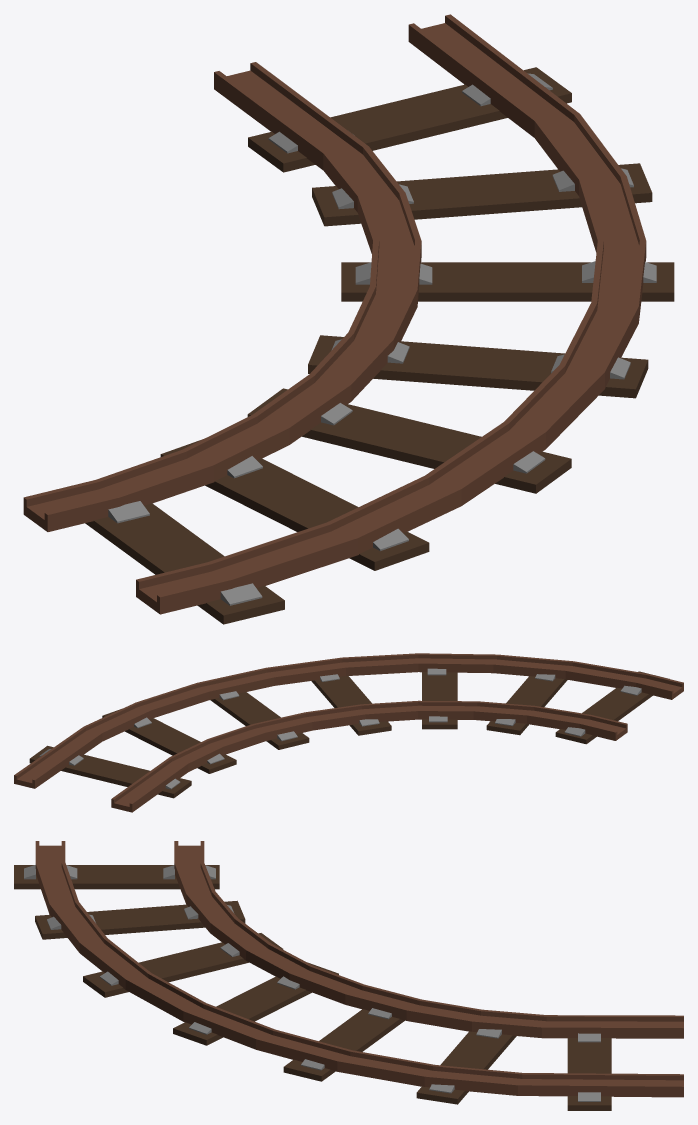
Rendered from Rail mine 1.fbx.
3 renders of one model, top to bottom at view 1: azimuth 30°, elevation 25°; view 2: azimuth 150°, elevation 25°; view 3: azimuth 270°, elevation 25°, orthographic. The views are drawn at different scales.
Visible parts, largest first — view 1: rail gauche 1, planche rail 3.018, planche rail 3.017, planche rail 3.021, planche rail 3.016, planche rail 3.020, planche rail 3.019, planche rail 3.022; view 2: rail gauche 1, planche rail 3.016, planche rail 3.017, planche rail 3.018, planche rail 3.022, planche rail 3.021, planche rail 3.019, planche rail 3.020; view 3: rail gauche 1, planche rail 3.019, planche rail 3.022, planche rail 3.020, planche rail 3.021, planche rail 3.018, planche rail 3.017, planche rail 3.016.
Part boxes in pixels (x1,y1,x2,y2): rail gauche 1: (23,14,646,614); planche rail 3.018: (341,262,674,301); planche rail 3.017: (312,163,652,226); planche rail 3.021: (308,335,648,398); planche rail 3.016: (248,67,571,172); planche rail 3.020: (247,388,571,493); planche rail 3.019: (160,439,429,570); planche rail 3.022: (85,503,284,624); rail gauche 1: (14,653,683,812); planche rail 3.016: (29,745,191,798); planche rail 3.017: (102,709,236,773); planche rail 3.018: (210,692,309,749); planche rail 3.022: (555,671,669,744); planche rail 3.021: (311,675,391,735); planche rail 3.019: (486,676,567,735); planche rail 3.020: (422,672,457,729); rail gauche 1: (35,841,683,1097); planche rail 3.019: (35,900,245,939); planche rail 3.022: (14,865,219,889); planche rail 3.020: (83,933,283,997); planche rail 3.021: (173,962,338,1045); planche rail 3.018: (283,1009,404,1081); planche rail 3.017: (416,1031,516,1104); planche rail 3.016: (567,1038,611,1110).
Bounding box in the file's own units: 1566 × 45.54 × 1745.
